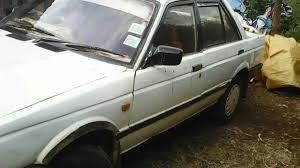Scratch: (166, 70, 207, 94)
